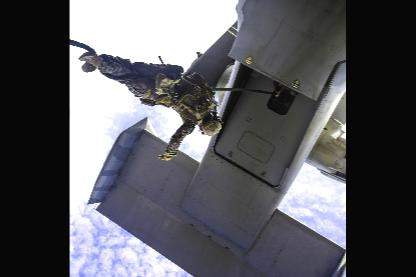Tornado: (87, 0, 347, 275)
